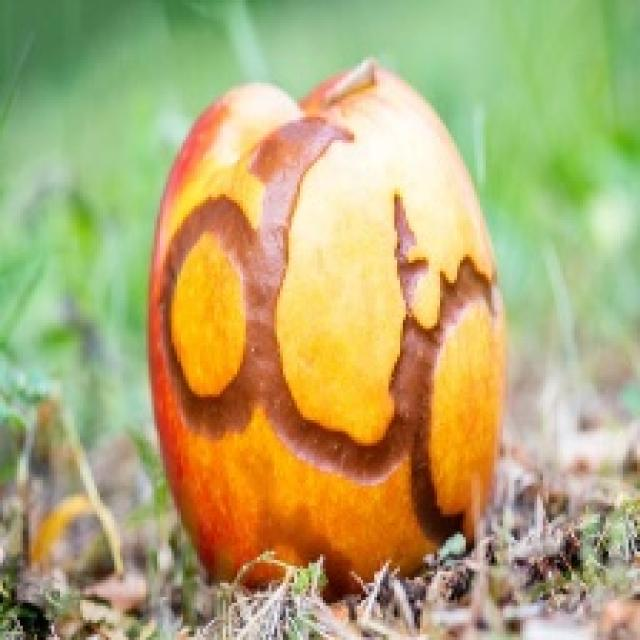rotten_apple: (164, 74, 495, 546)
